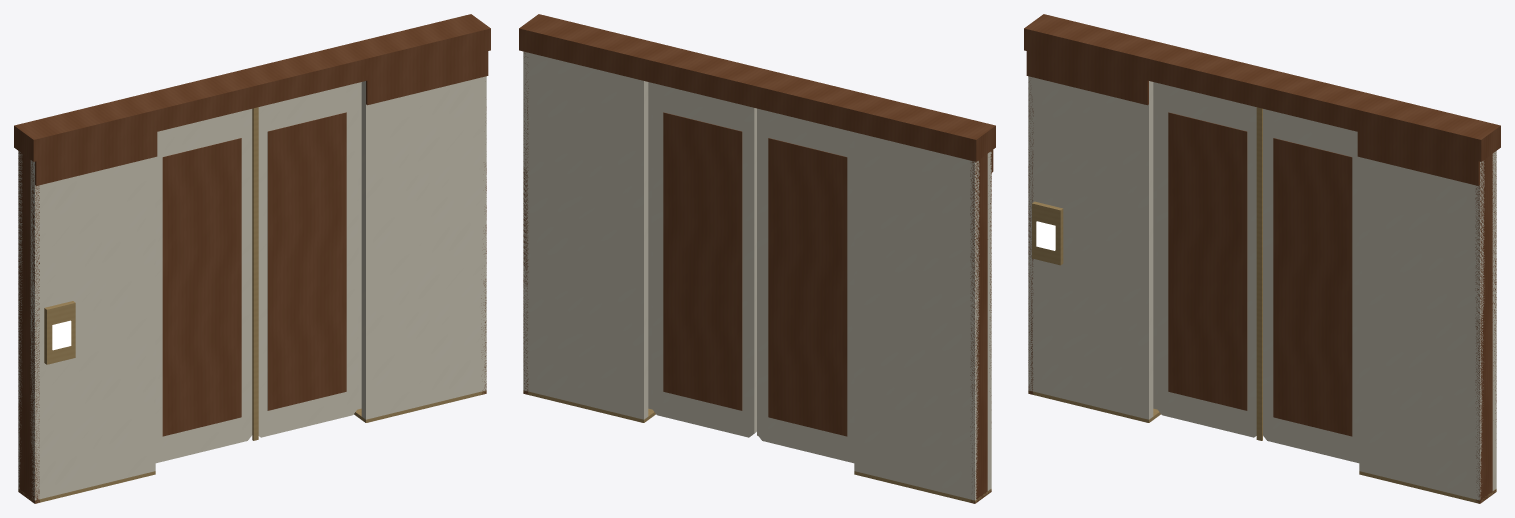
File: AST-DOR-002.glb
3 renders of one model, left to right at view 1: azimuth 30°, elevation 25°; view 2: azimuth 150°, elevation 25°; view 3: azimuth 330°, elevation 25°, orthographic.
Parts seen in each view (by area): view 1: ENTRY_fixed_ivory_enamel, ENTRY_fixed_warm_walnut, ENTRY_moving_warm_walnut.001, ENTRY_moving_warm_walnut, ENTRY_moving_ivory_enamel.001, ENTRY_moving_ivory_enamel, ENTRY_fixed_champagne_metal, ENTRY_moving_champagne_metal; view 2: ENTRY_fixed_ivory_enamel, ENTRY_fixed_warm_walnut, ENTRY_moving_warm_walnut.001, ENTRY_moving_warm_walnut, ENTRY_moving_ivory_enamel.001, ENTRY_moving_ivory_enamel, ENTRY_fixed_champagne_metal; view 3: ENTRY_fixed_ivory_enamel, ENTRY_fixed_warm_walnut, ENTRY_moving_warm_walnut, ENTRY_moving_warm_walnut.001, ENTRY_moving_ivory_enamel, ENTRY_moving_ivory_enamel.001, ENTRY_fixed_champagne_metal, ENTRY_moving_champagne_metal, ENTRY_fixed_lens.
Boxes of the visible parts, box(x1,y1,x2,y2) form: ENTRY_fixed_ivory_enamel: box(18, 76, 486, 500); ENTRY_fixed_warm_walnut: box(14, 14, 490, 503); ENTRY_moving_warm_walnut.001: box(267, 112, 346, 410); ENTRY_moving_warm_walnut: box(162, 138, 241, 436); ENTRY_moving_ivory_enamel.001: box(258, 83, 358, 437); ENTRY_moving_ivory_enamel: box(155, 109, 252, 463); ENTRY_fixed_champagne_metal: box(18, 301, 486, 503); ENTRY_moving_champagne_metal: box(252, 107, 258, 440); ENTRY_fixed_ivory_enamel: box(523, 51, 991, 500); ENTRY_fixed_warm_walnut: box(519, 14, 995, 503); ENTRY_moving_warm_walnut.001: box(663, 112, 742, 410); ENTRY_moving_warm_walnut: box(768, 138, 847, 436); ENTRY_moving_ivory_enamel.001: box(651, 83, 756, 437); ENTRY_moving_ivory_enamel: box(757, 108, 854, 463); ENTRY_fixed_champagne_metal: box(523, 390, 991, 503); ENTRY_fixed_ivory_enamel: box(1028, 76, 1496, 500); ENTRY_fixed_warm_walnut: box(1024, 14, 1500, 503); ENTRY_moving_warm_walnut: box(1168, 112, 1247, 410); ENTRY_moving_warm_walnut.001: box(1273, 138, 1352, 436); ENTRY_moving_ivory_enamel: box(1156, 83, 1256, 437); ENTRY_moving_ivory_enamel.001: box(1263, 109, 1359, 463); ENTRY_fixed_champagne_metal: box(1028, 201, 1496, 503); ENTRY_moving_champagne_metal: box(1256, 107, 1262, 440); ENTRY_fixed_lens: box(1036, 221, 1055, 250).
Size of the model in its own units: 3.48 by 2.66 by 0.305.
4 materials, 3 textured.
